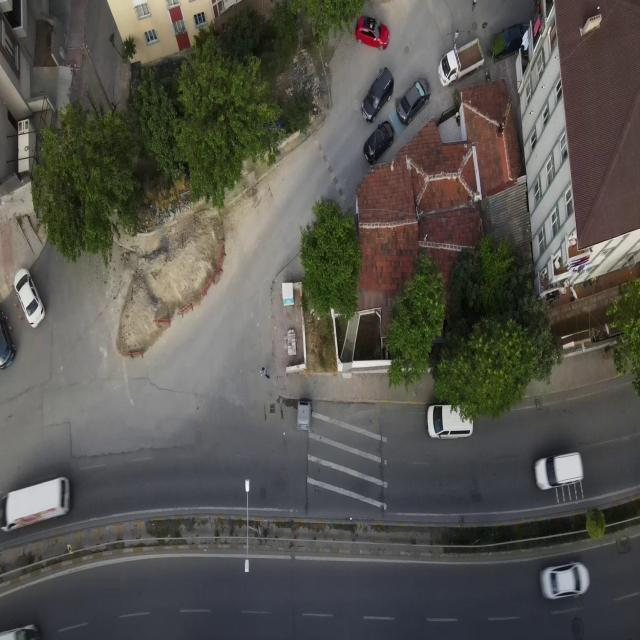p3rson: (260, 363, 270, 379), (453, 28, 459, 45), (472, 0, 477, 13)
